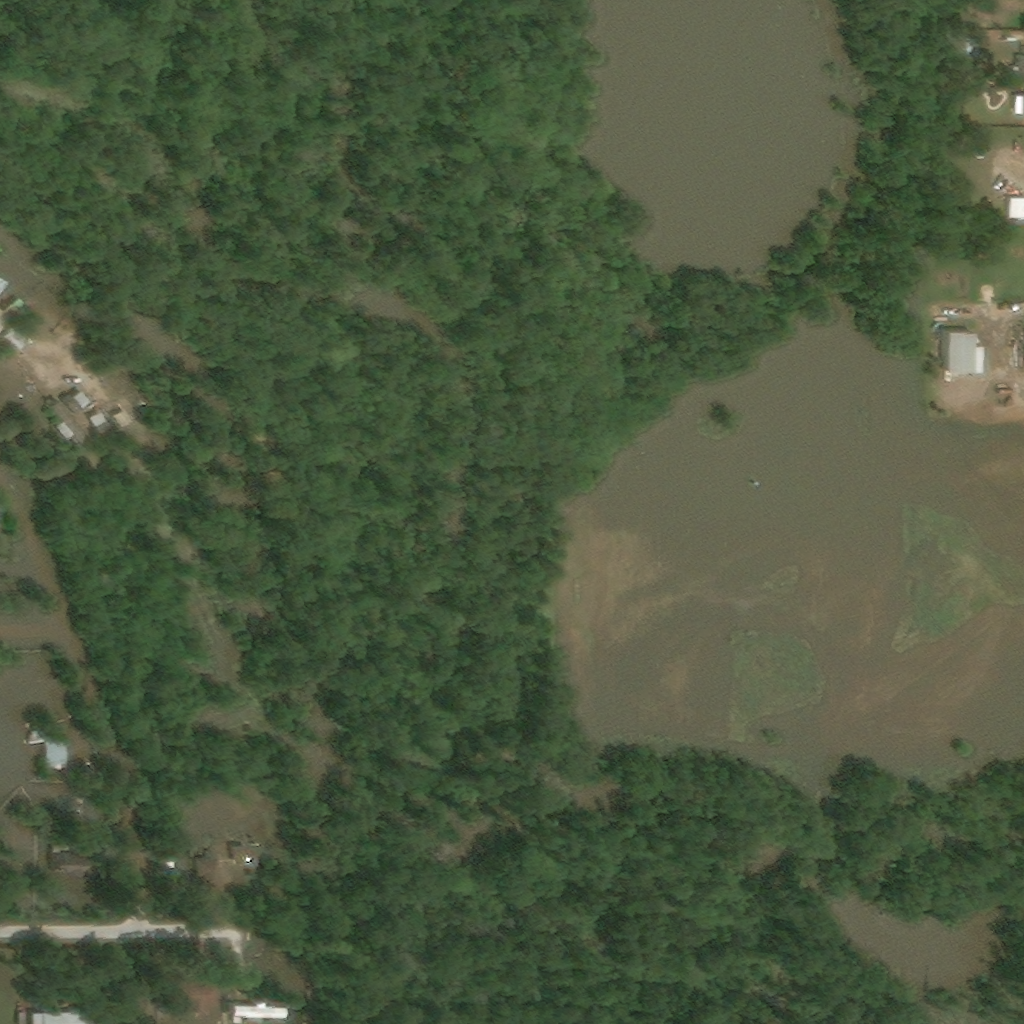destroyed: (169, 976, 219, 1014)
major_damage: (50, 400, 93, 450), (29, 731, 71, 771), (231, 996, 284, 1023), (31, 1006, 97, 1023), (53, 850, 89, 880), (195, 851, 222, 891), (162, 859, 181, 890), (63, 827, 88, 849), (230, 841, 251, 863), (19, 1013, 30, 1023), (91, 833, 100, 843)
minor_damage: (945, 328, 982, 375), (63, 390, 90, 417), (0, 325, 26, 353), (90, 411, 113, 440), (112, 407, 133, 429), (1008, 198, 1022, 225), (946, 40, 969, 54)
unclassified: (0, 276, 5, 293)
